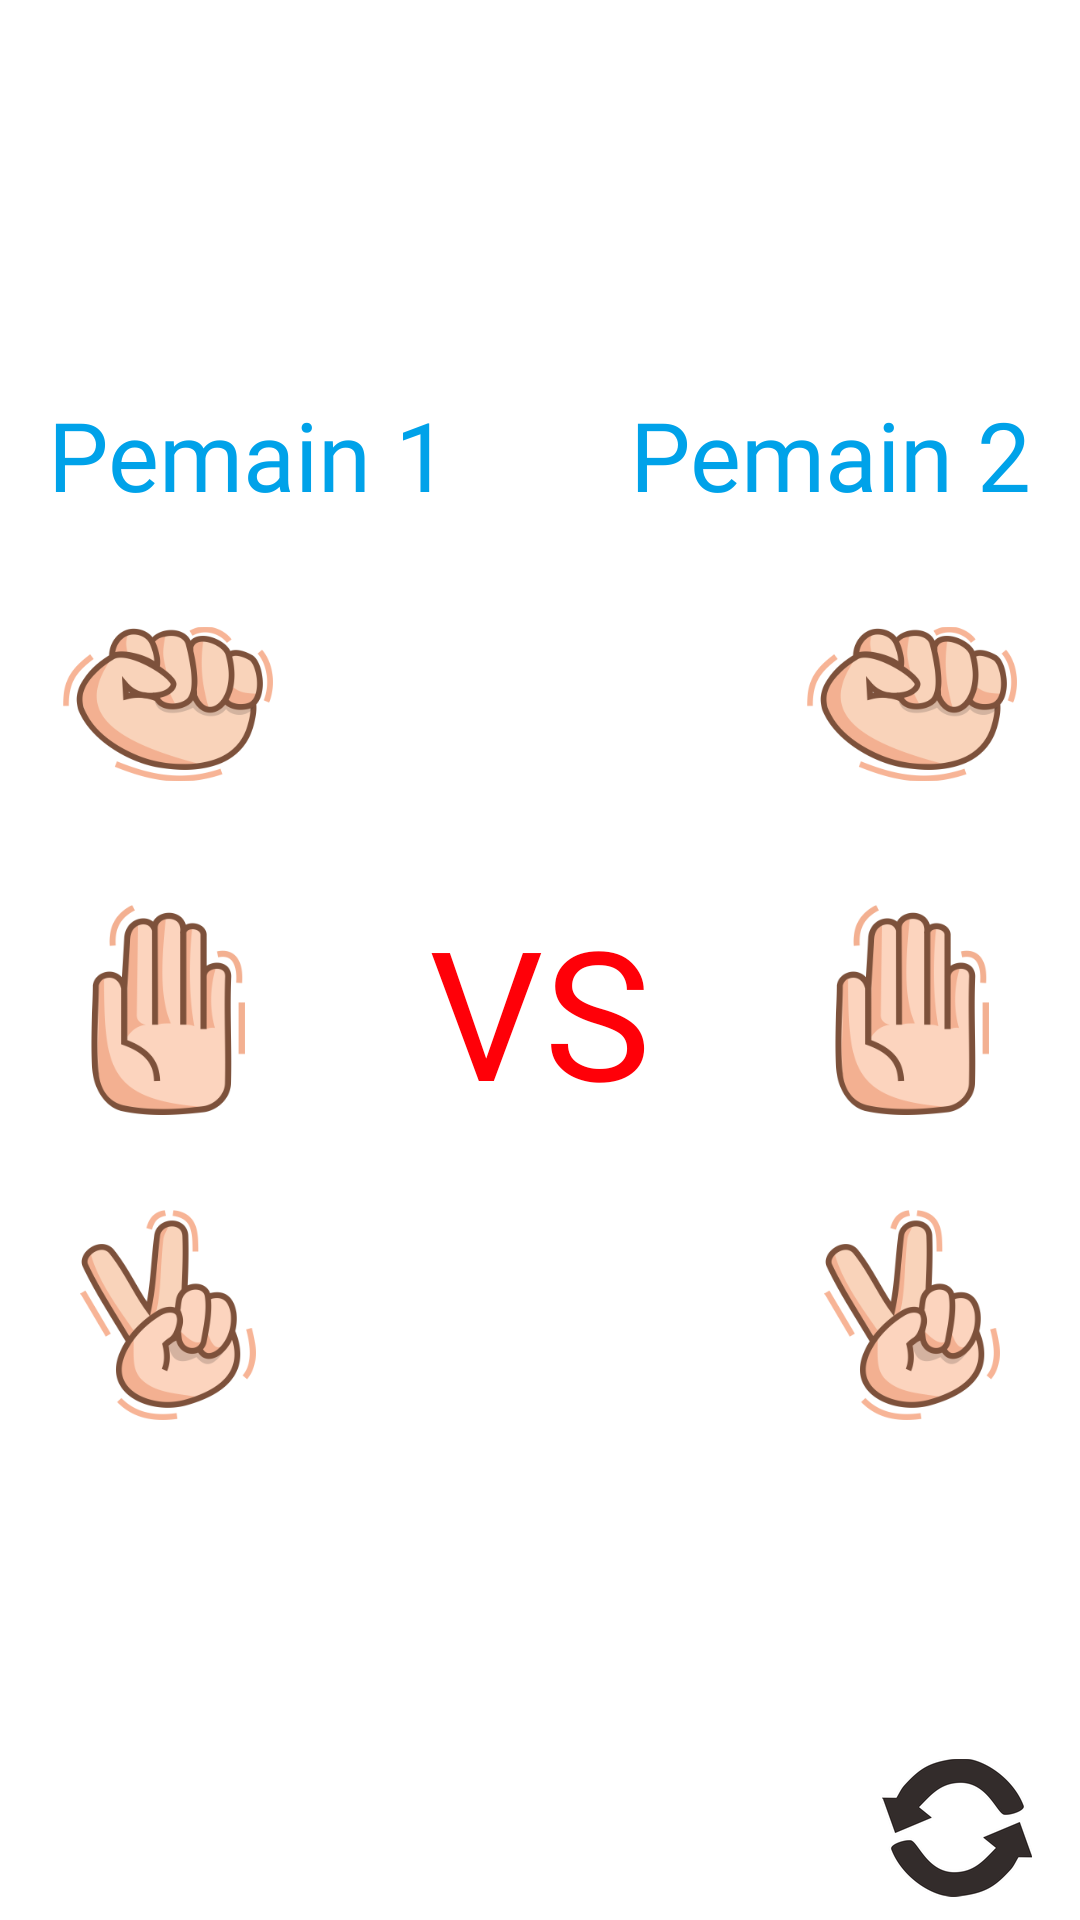

Icons on this 1080px x 1920px Android screen, each with the point to tap as [x,y]:
Batu: [168,704], [912,704]
Gunting: [168,1315], [912,1315]
Kertas: [168,1010], [912,1010]
Reset: [957,1828]
